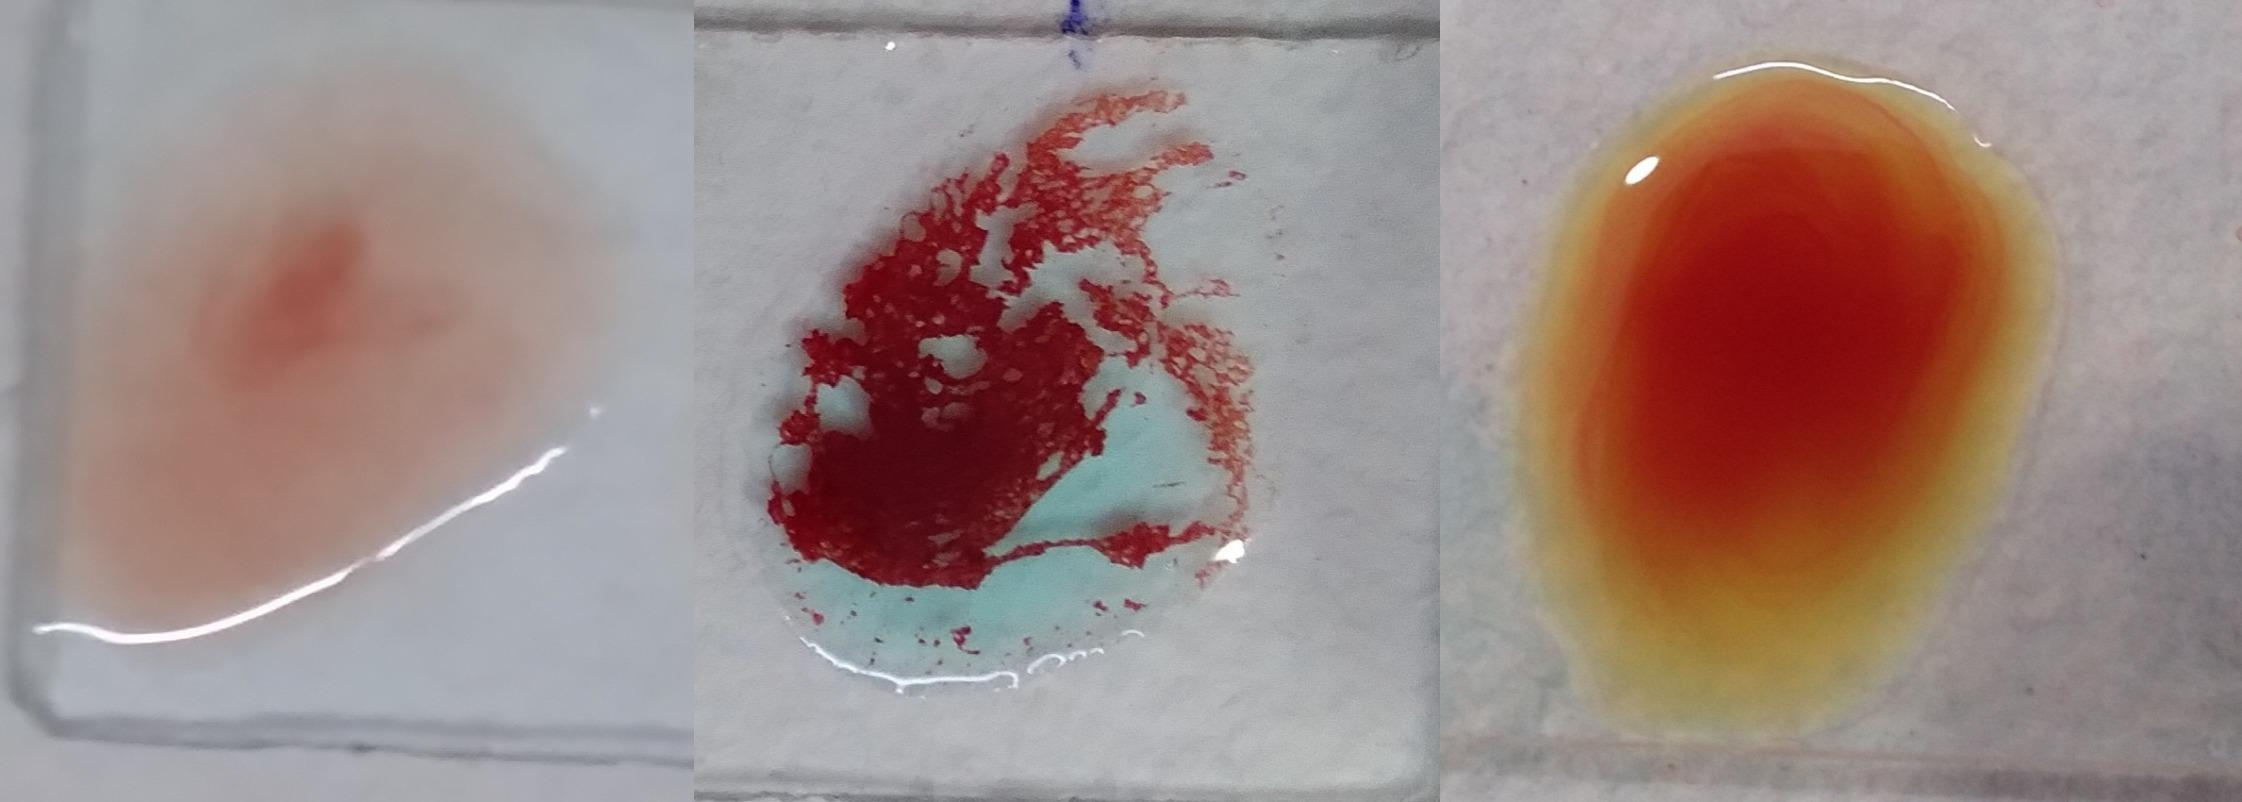A: (744, 103, 1261, 688)
